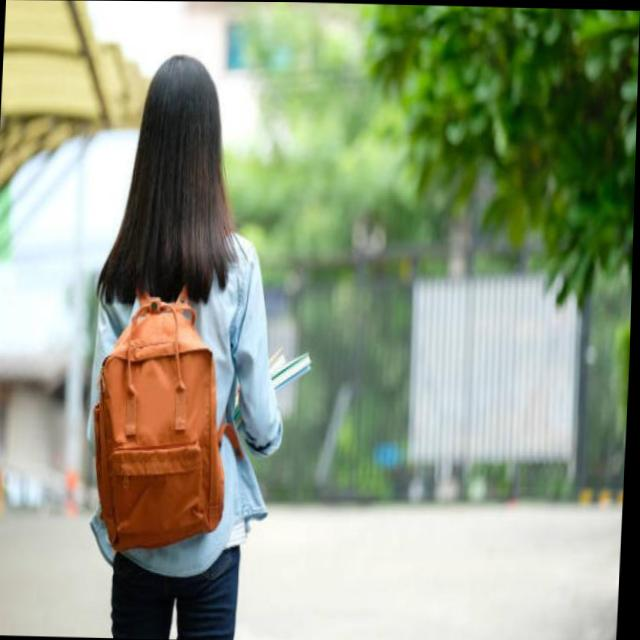no helmet: (126, 25, 236, 266)
